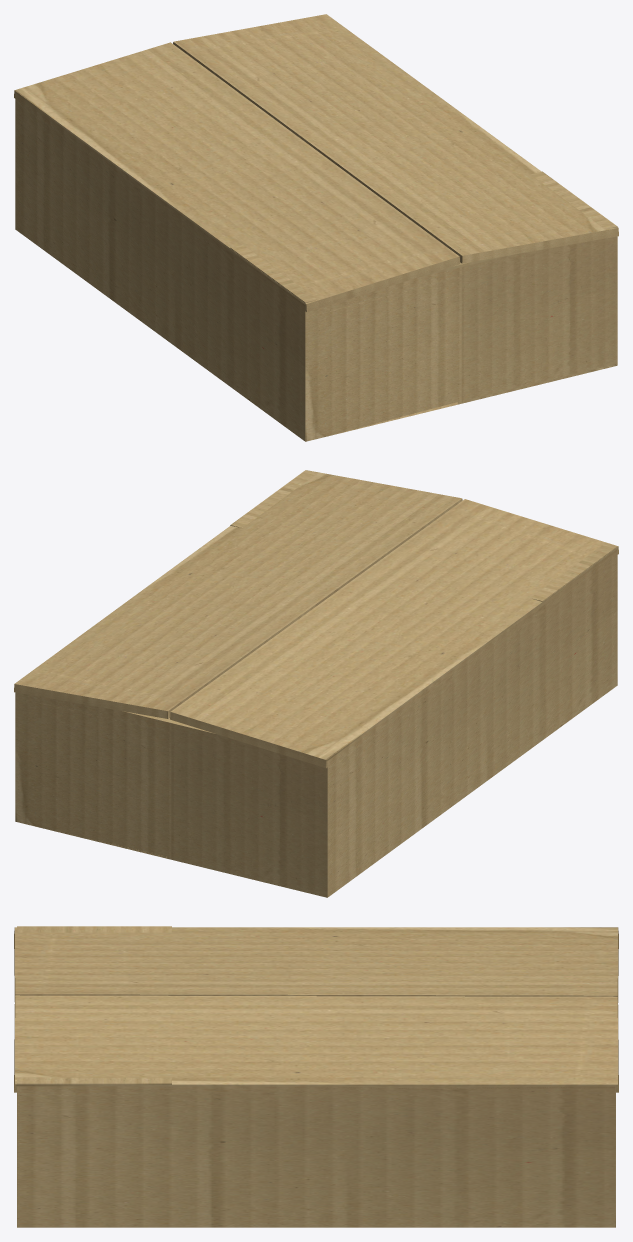
Rendered from cardboardBoxSmallClosed.fbx.
3 renders of one model, top to bottom at view 1: azimuth 30°, elevation 25°; view 2: azimuth 150°, elevation 25°; view 3: azimuth 270°, elevation 25°, orthographic. The views are drawn at different scales.
Visible parts, largest first — view 1: Cube; view 2: Cube; view 3: Cube.
Part boxes in pixels (x1,y1,x2,y2): Cube: (14,14,618,441); Cube: (14,470,618,897); Cube: (14,926,618,1227).
Size of the model in its own units: 124 by 56.51 by 202.
Materials: 1 (1 with a texture image).
